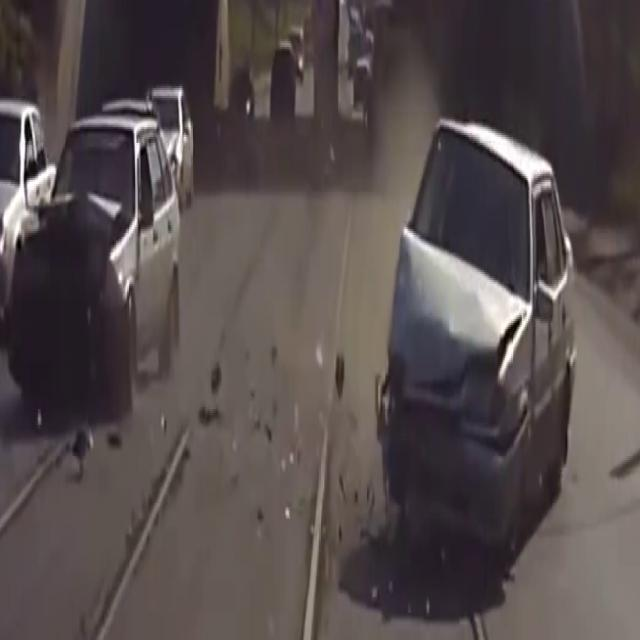accident: (365, 88, 581, 584), (20, 110, 189, 404)
